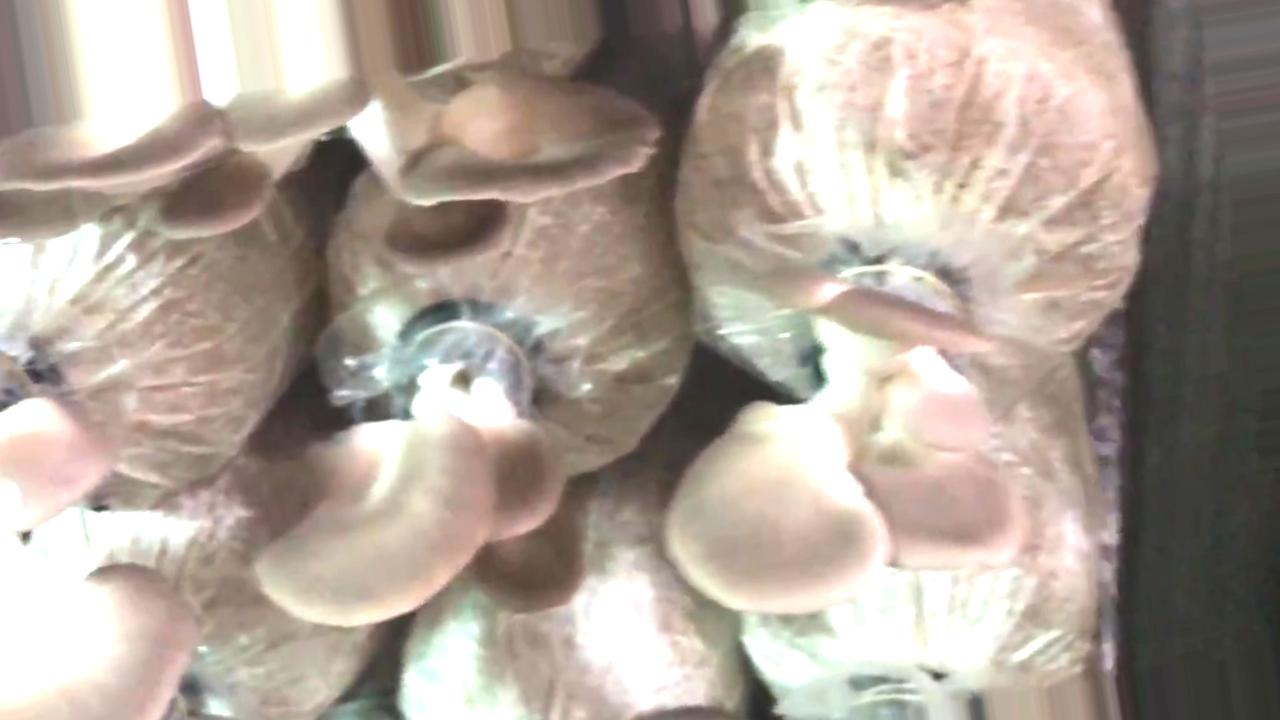nam: (1, 80, 682, 273), (667, 253, 1021, 620), (256, 296, 596, 637), (1, 381, 202, 720)
